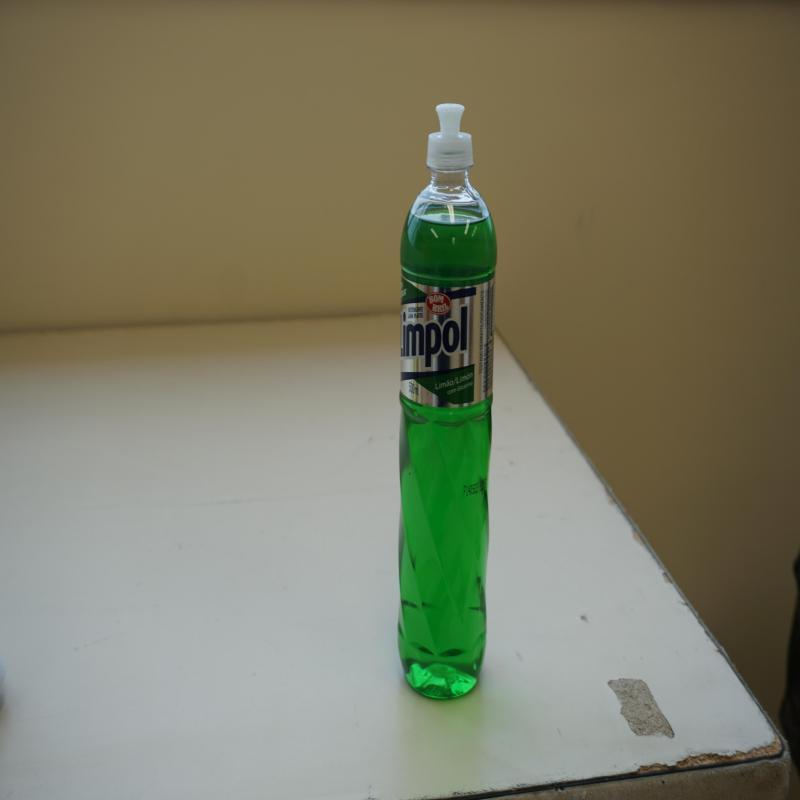Cleaner: (397, 103, 497, 706)
